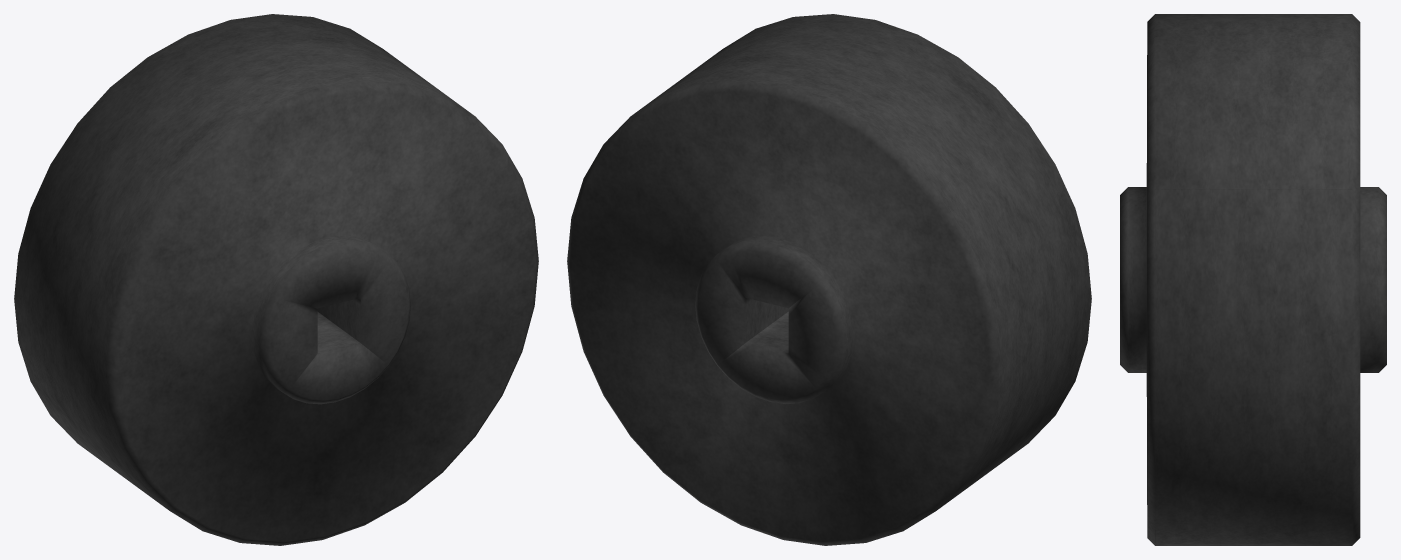
File: millstone.glb
The picture shows the model from 3 angles, left to right: view 1: azimuth 30°, elevation 25°; view 2: azimuth 150°, elevation 25°; view 3: azimuth 270°, elevation 25°; orthographic projection. The views are drawn at different scales.
Parts seen in each view (by area): view 1: Cylinder; view 2: Cylinder; view 3: Cylinder.
Part boxes in pixels (<box>): Cylinder: <box>14,14,538,545</box>; Cylinder: <box>567,14,1091,545</box>; Cylinder: <box>1120,14,1386,545</box>.
Size of the model in its own units: 1 by 1 by 0.5009.
Materials: 1 (1 with a texture image).
